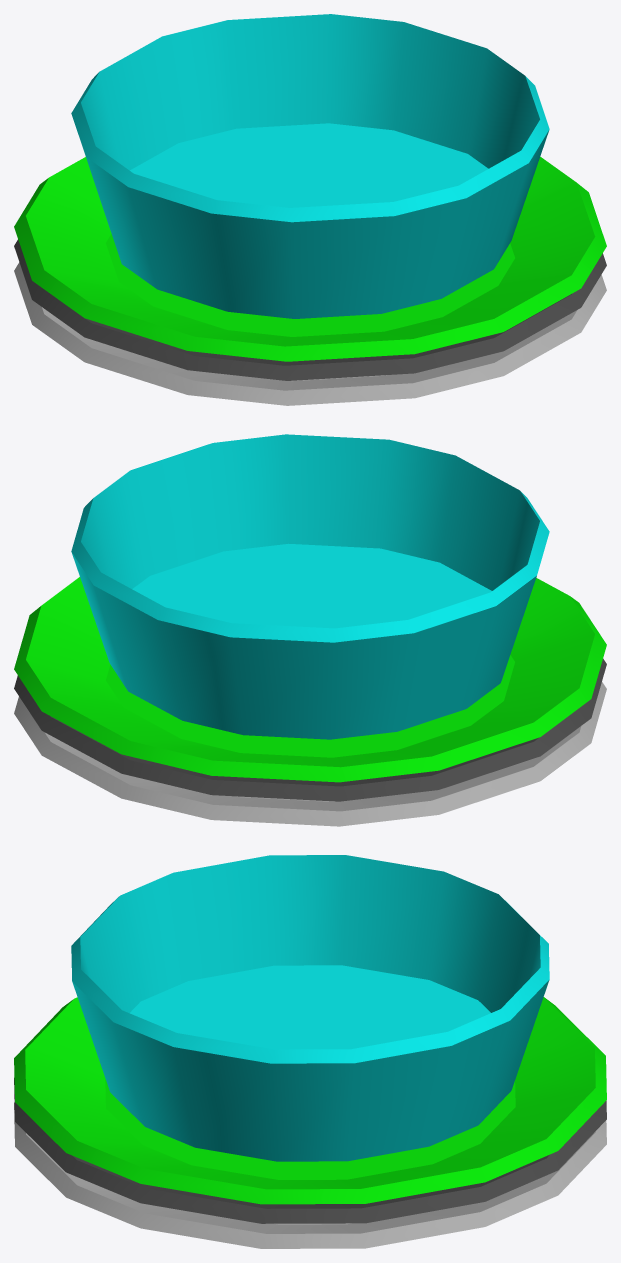
File: StackOfPlates_4.fbx
3 views of the same model, one above another, from view 1: azimuth 30°, elevation 25°; view 2: azimuth 150°, elevation 25°; view 3: azimuth 270°, elevation 25° (orthographic).
Visible parts, largest first — view 1: Kitchen_StackOfPlates_4; view 2: Kitchen_StackOfPlates_4; view 3: Kitchen_StackOfPlates_4.
Part boxes in pixels (<box>): Kitchen_StackOfPlates_4: <box>14,14,606,405</box>; Kitchen_StackOfPlates_4: <box>14,434,606,826</box>; Kitchen_StackOfPlates_4: <box>14,855,606,1248</box>.
Bounding box in the file's own units: 33.52 × 11.75 × 33.52.
